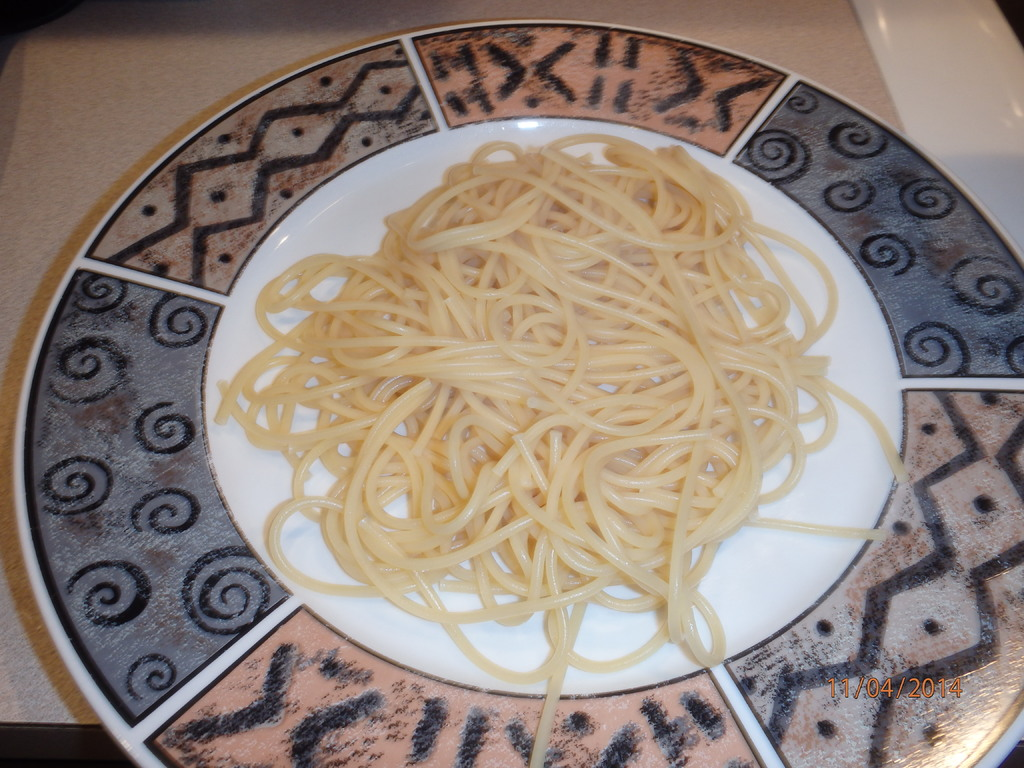pasta: (204, 90, 863, 682)
